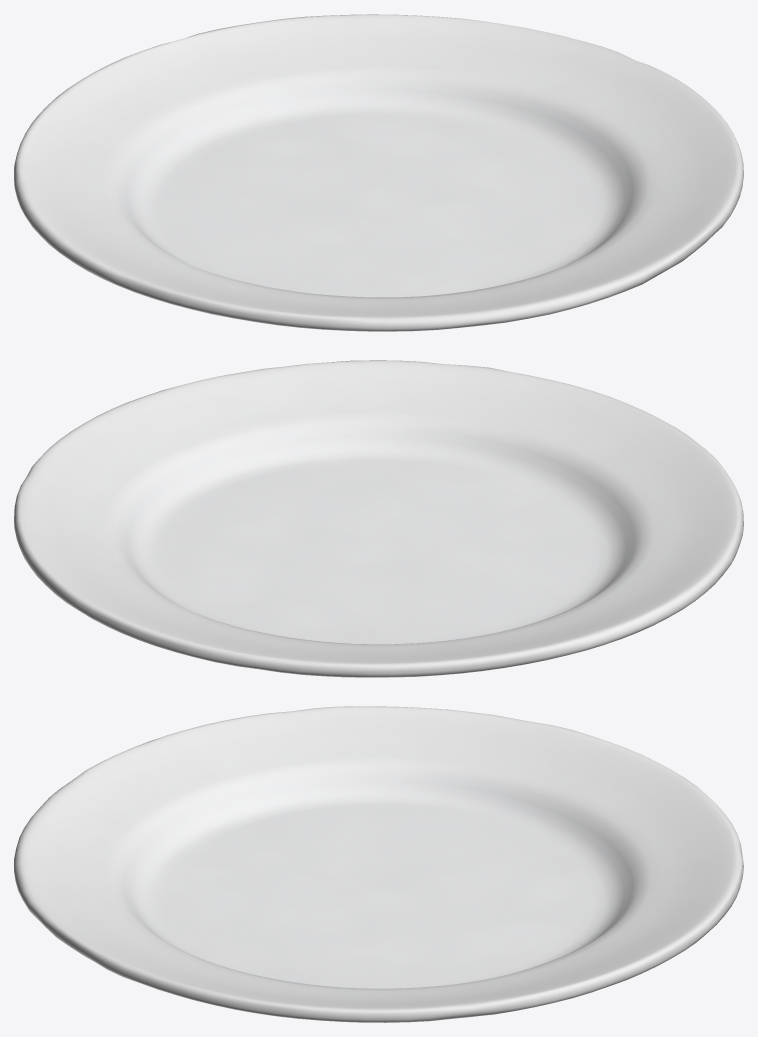
The model's file is plate.glb.
3 views of the same model, one above another, from view 1: azimuth 30°, elevation 25°; view 2: azimuth 150°, elevation 25°; view 3: azimuth 270°, elevation 25° (orthographic).
Bounding box in the file's own units: 1.91 × 0.1699 × 1.91.
Materials: 1 (1 with a texture image).
